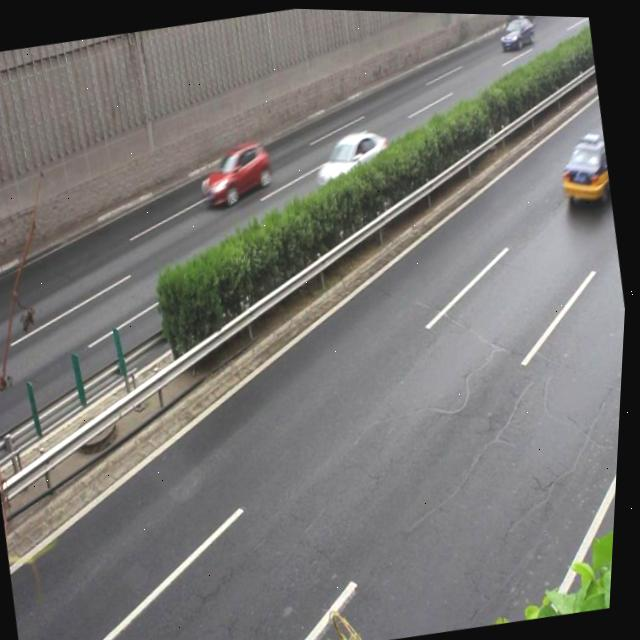car: (308, 124, 395, 200), (195, 136, 276, 211), (555, 129, 616, 206)
